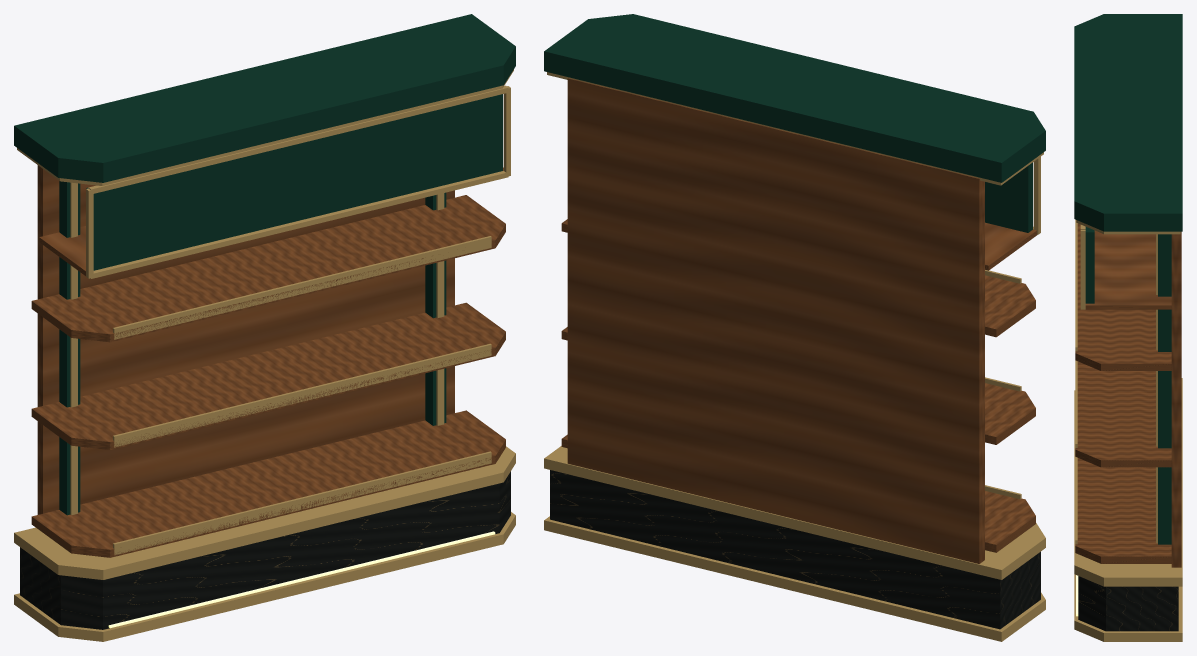
3 renders of one model, left to right at view 1: azimuth 30°, elevation 25°; view 2: azimuth 150°, elevation 25°; view 3: azimuth 270°, elevation 25°, orthographic. The views are drawn at different scales.
Parts seen in each view (by area): view 1: cabinet_back, cabinet_crown, brand_header_panel, cabinet_stone_base, shelf_1, shelf_3, shelf_2, trim_base_top, trim_base_plinth, price_rail_3, price_rail_2, price_rail_1 (+10 smaller); view 2: cabinet_back, cabinet_crown, cabinet_stone_base, trim_base_top, trim_base_plinth, brand_header_panel, shelf_3, shelf_1, shelf_2, brand_header_light_canopy, trim_crown_lip; view 3: cabinet_crown, shelf_2, shelf_1, shelf_3, brand_header_light_canopy, cabinet_stone_base, cabinet_back, cabinet_right_rear_post, trim_base_top, trim_base_plinth, brand_header_panel, trim_right_post (+5 smaller).
Part boxes in pixels (x1,y1,x2,y2): cabinet_back: (37,165,454,514); cabinet_crown: (14,14,515,182); brand_header_panel: (86,94,502,270); cabinet_stone_base: (20,471,510,629); shelf_1: (31,410,505,557); shelf_3: (31,195,505,342); shelf_2: (31,302,505,449); trim_base_top: (14,446,515,579); trim_base_plinth: (14,512,515,641); price_rail_3: (113,236,491,339); price_rail_2: (113,343,491,447); price_rail_1: (113,451,491,554); cabinet_back: (567,78,984,563); cabinet_crown: (544,14,1045,182); cabinet_stone_base: (550,470,1040,629); trim_base_top: (544,446,1045,579); trim_base_plinth: (544,516,1045,641); brand_header_panel: (985,162,1032,232); shelf_3: (561,219,1035,337); shelf_1: (561,434,1035,552); shelf_2: (561,327,1035,444); brand_header_light_canopy: (985,222,1037,270); trim_crown_lip: (547,72,1043,185); cabinet_crown: (1074,14,1182,231); shelf_2: (1075,361,1171,467); shelf_1: (1075,458,1171,563); shelf_3: (1075,223,1171,370); brand_header_light_canopy: (1085,230,1171,309); cabinet_stone_base: (1078,576,1178,631); cabinet_back: (1171,231,1181,567); cabinet_right_rear_post: (1158,234,1171,544); trim_base_top: (1074,378,1182,586); trim_base_plinth: (1074,574,1182,641); brand_header_panel: (1085,227,1094,303); trim_right_post: (1156,234,1157,543).
Bounding box in the file's own units: 2.4 × 2.4 × 0.55.
Materials: 5 (2 with a texture image).
